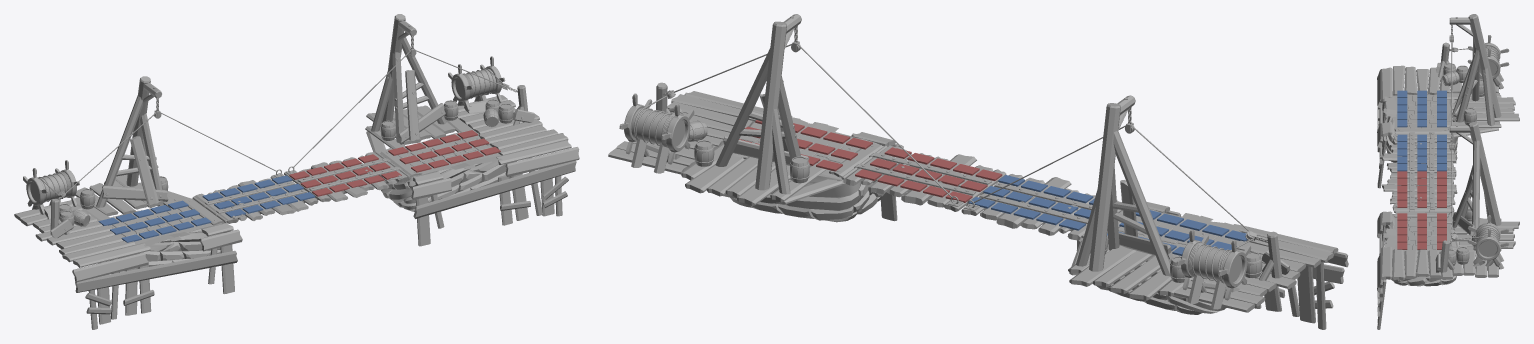
Rendered from Gameboard.fbx.
The picture shows the model from 3 angles, left to right: view 1: azimuth 30°, elevation 25°; view 2: azimuth 150°, elevation 25°; view 3: azimuth 270°, elevation 25°; orthographic projection. The views are drawn at different scales.
Visible parts, largest first — view 1: Right_Gameboard, Left_Gameboard, RED_TEAM, BLUE_TEAM, BLUE_TEAM_PLAY, RED_TEAM_PLAY; view 2: Right_Gameboard, Left_Gameboard, RED_TEAM_PLAY, BLUE_TEAM_PLAY, RED_TEAM, BLUE_TEAM; view 3: Right_Gameboard, Left_Gameboard, BLUE_TEAM_PLAY, BLUE_TEAM, RED_TEAM_PLAY, RED_TEAM.
Part boxes in pixels (x1,y1,x2,y2): Right_Gameboard: [284, 14, 579, 246]; Left_Gameboard: [14, 76, 318, 329]; RED_TEAM: [388, 130, 500, 172]; BLUE_TEAM: [98, 200, 211, 242]; BLUE_TEAM_PLAY: [202, 175, 315, 217]; RED_TEAM_PLAY: [289, 154, 401, 196]; Right_Gameboard: [608, 14, 1006, 222]; Left_Gameboard: [961, 95, 1348, 329]; RED_TEAM_PLAY: [855, 147, 1002, 202]; BLUE_TEAM_PLAY: [968, 175, 1094, 230]; RED_TEAM: [739, 120, 872, 171]; BLUE_TEAM: [1107, 210, 1247, 255]; Right_Gameboard: [1377, 122, 1519, 329]; Left_Gameboard: [1377, 14, 1519, 188]; BLUE_TEAM_PLAY: [1397, 134, 1446, 171]; BLUE_TEAM: [1397, 90, 1446, 127]; RED_TEAM_PLAY: [1397, 171, 1446, 207]; RED_TEAM: [1397, 213, 1446, 249].
Size of the model in its own units: 204 by 71.87 by 57.54.
